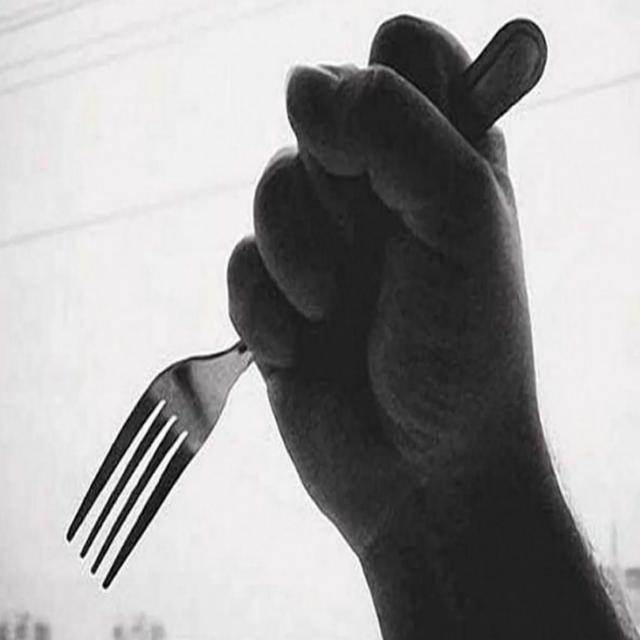fork: (66, 18, 548, 590)
